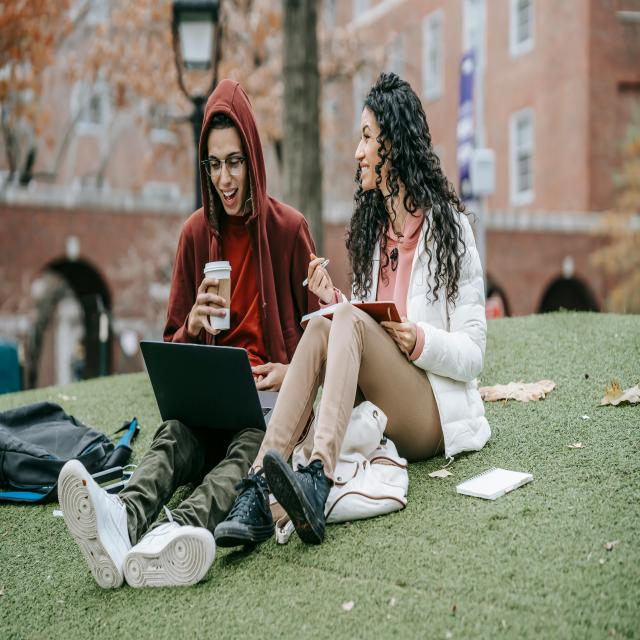cup: (203, 260, 234, 332)
